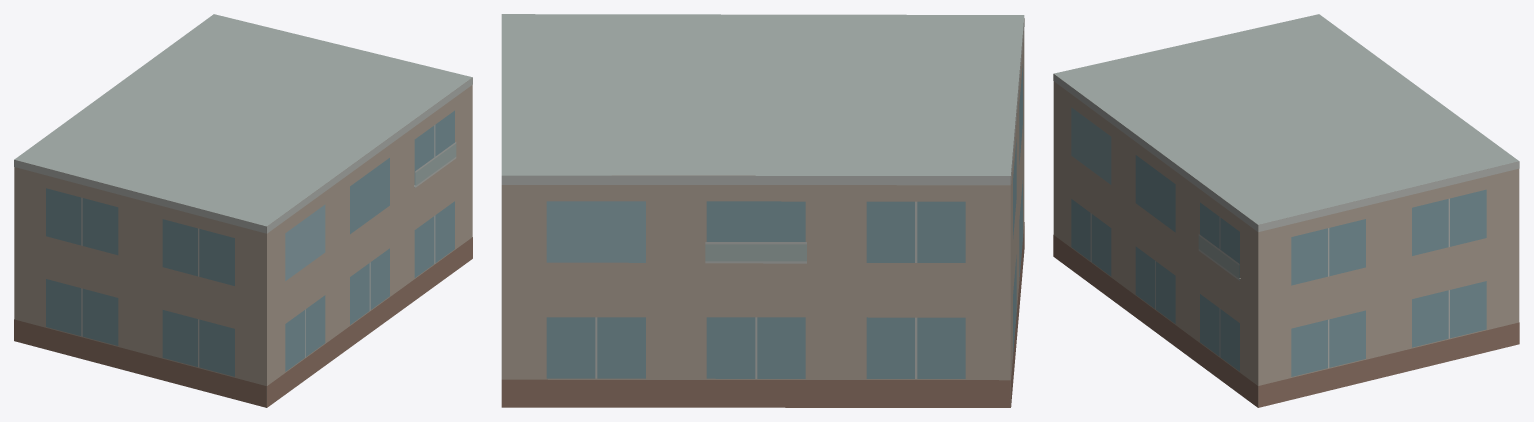
File: survey-upis-32694466.glb
3 renders of one model, left to right at view 1: azimuth 30°, elevation 25°; view 2: azimuth 150°, elevation 25°; view 3: azimuth 270°, elevation 25°, orthographic. The views are drawn at different scales.
Parts seen in each view (by area): view 1: survey-upis-32694466.tmp; view 2: survey-upis-32694466.tmp; view 3: survey-upis-32694466.tmp.
Boxes of the visible parts, x1=… form: survey-upis-32694466.tmp: x1=14, y1=14, x2=472, y2=407; survey-upis-32694466.tmp: x1=501, y1=14, x2=1024, y2=407; survey-upis-32694466.tmp: x1=1053, y1=14, x2=1519, y2=407.
Size of the model in its own units: 15.09 by 6.1 by 14.09.
